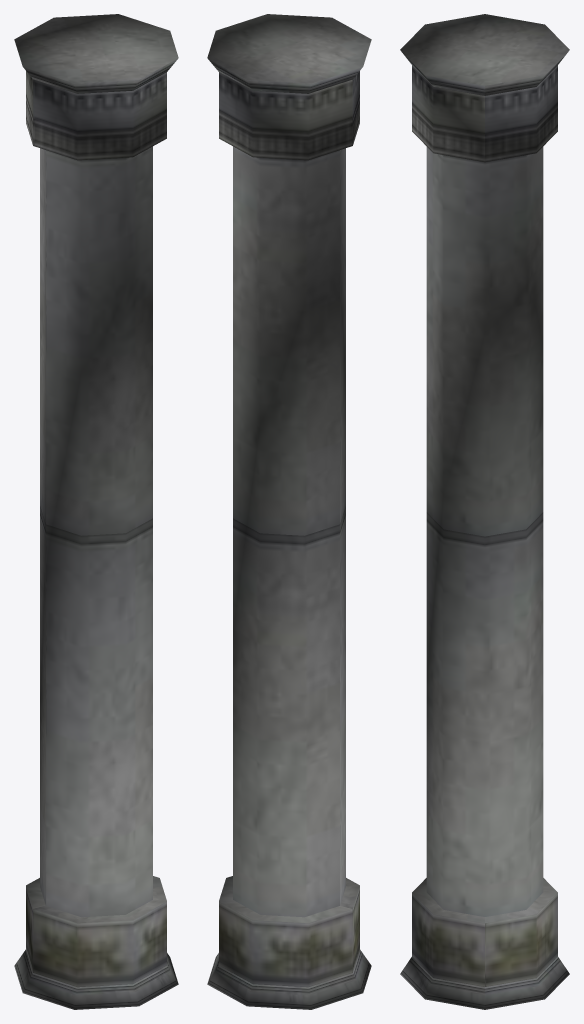
Rendered from sd_pillar_large_01.glb.
3 views of the same model, side by side, from view 1: azimuth 30°, elevation 25°; view 2: azimuth 150°, elevation 25°; view 3: azimuth 270°, elevation 25° (orthographic).
Visible parts, largest first — view 1: pillar_large_01; view 2: pillar_large_01; view 3: pillar_large_01.
Part boxes in pixels (box(x1,y1,x2,y2)): pillar_large_01: box(14, 14, 178, 1009); pillar_large_01: box(207, 14, 371, 1009); pillar_large_01: box(400, 14, 569, 1009).
Size of the model in its own units: 0.9998 by 6 by 0.9998.
Materials: 1 (1 with a texture image).
